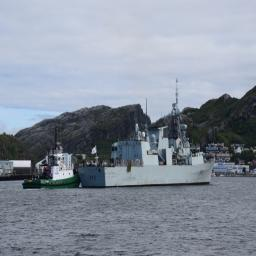Fragata: (76, 75, 218, 192)
